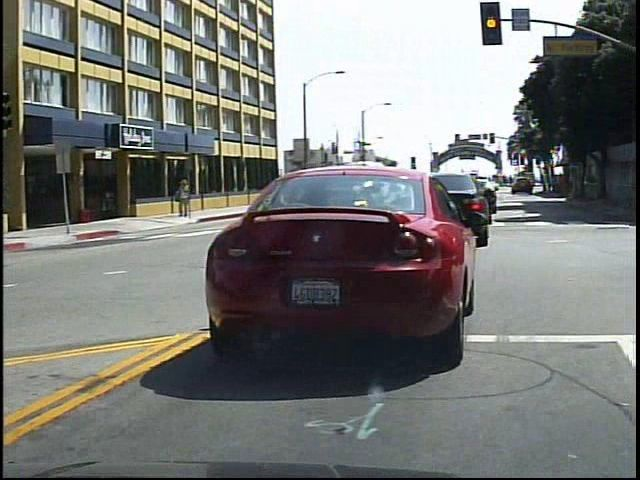person: (176, 176, 196, 221)
